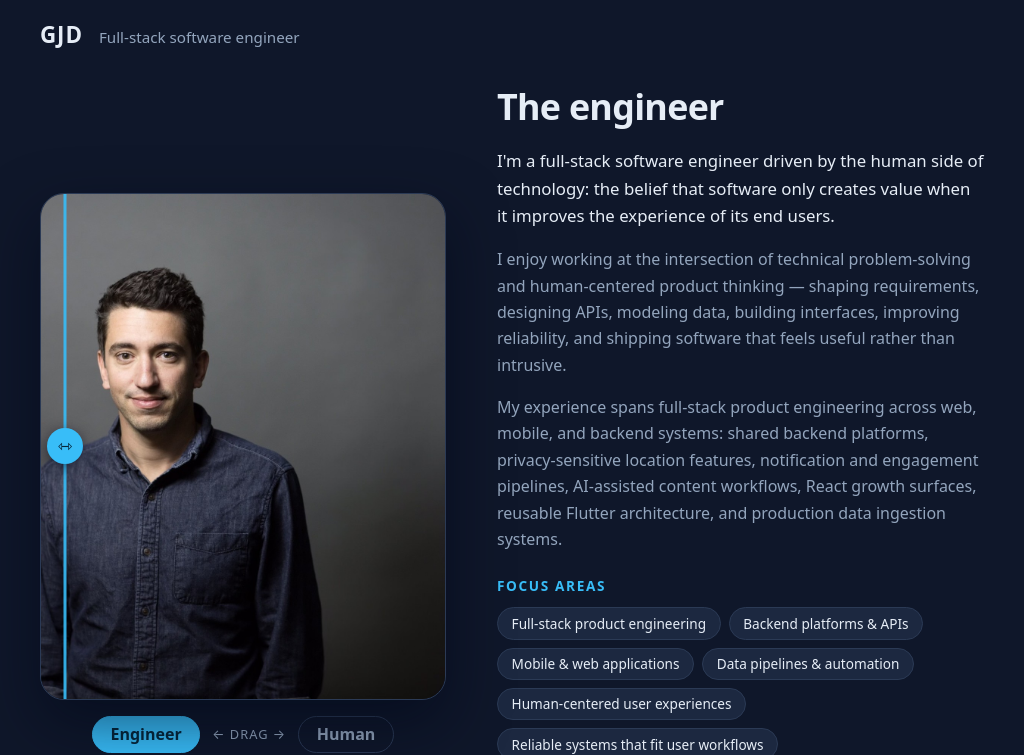
Test: App › switches to the human persona and back
Step 1. Click the button "Human" → (346, 734), box [298, 716, 394, 753]
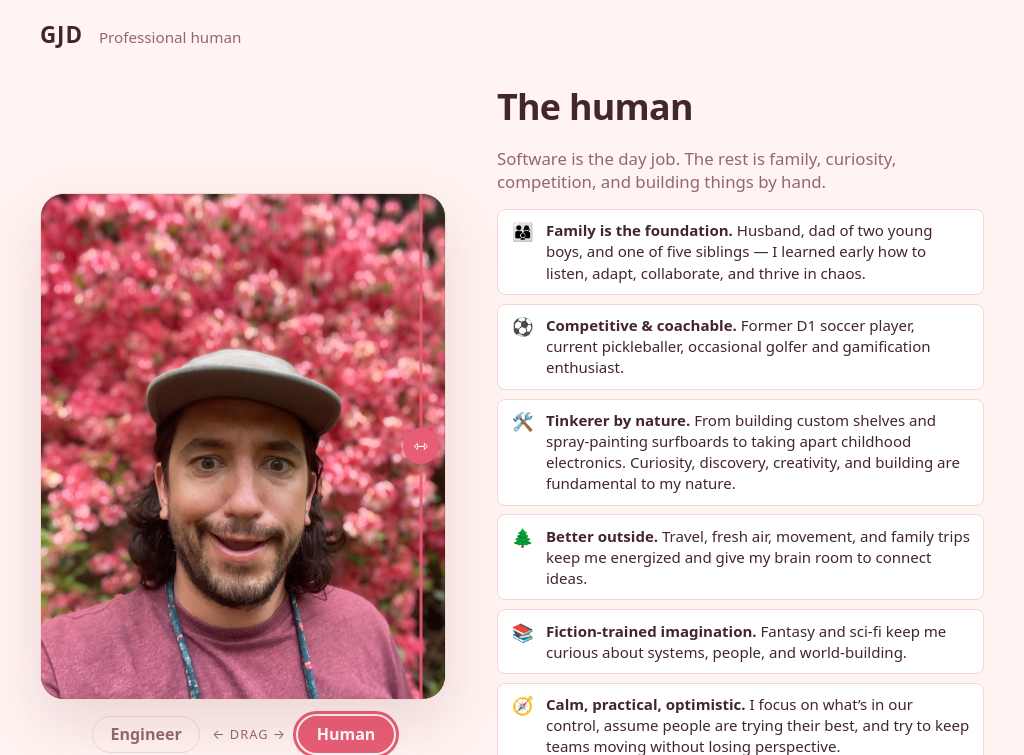
Check: the slider named "Persona" has attribute aria-valuenow="1", box [399, 194, 443, 699]
Step 2. Click the button "Engineer" → (146, 734), box [92, 716, 200, 753]
(page scrolled)
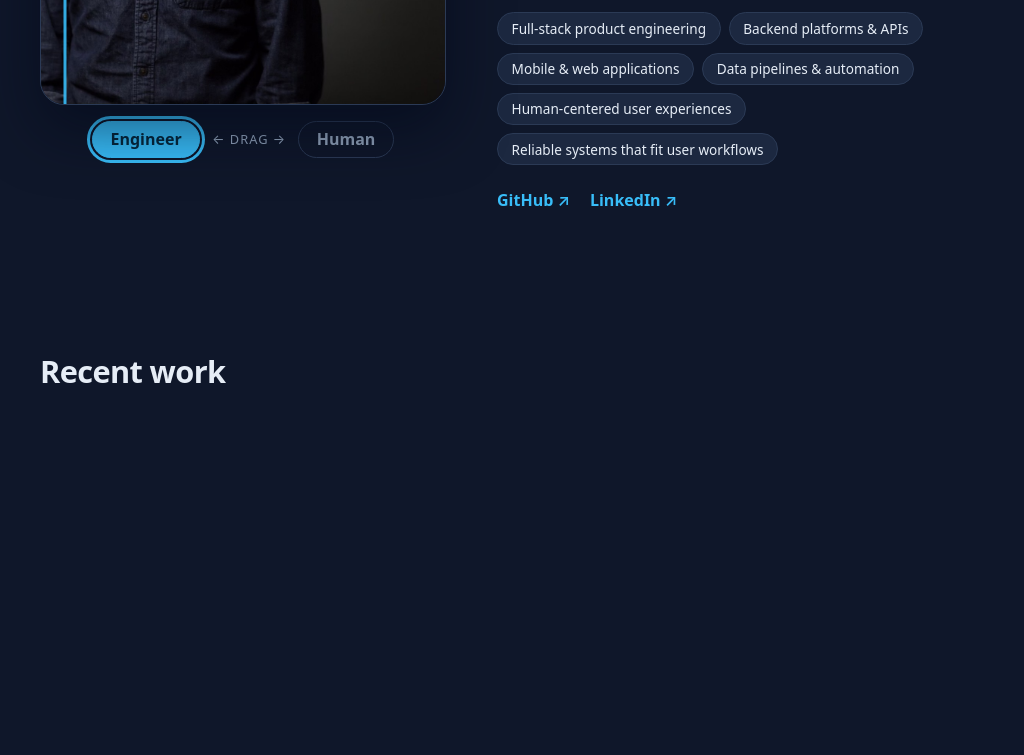
Check: the heading "Recent work" is shown, box [40, 350, 225, 392]
